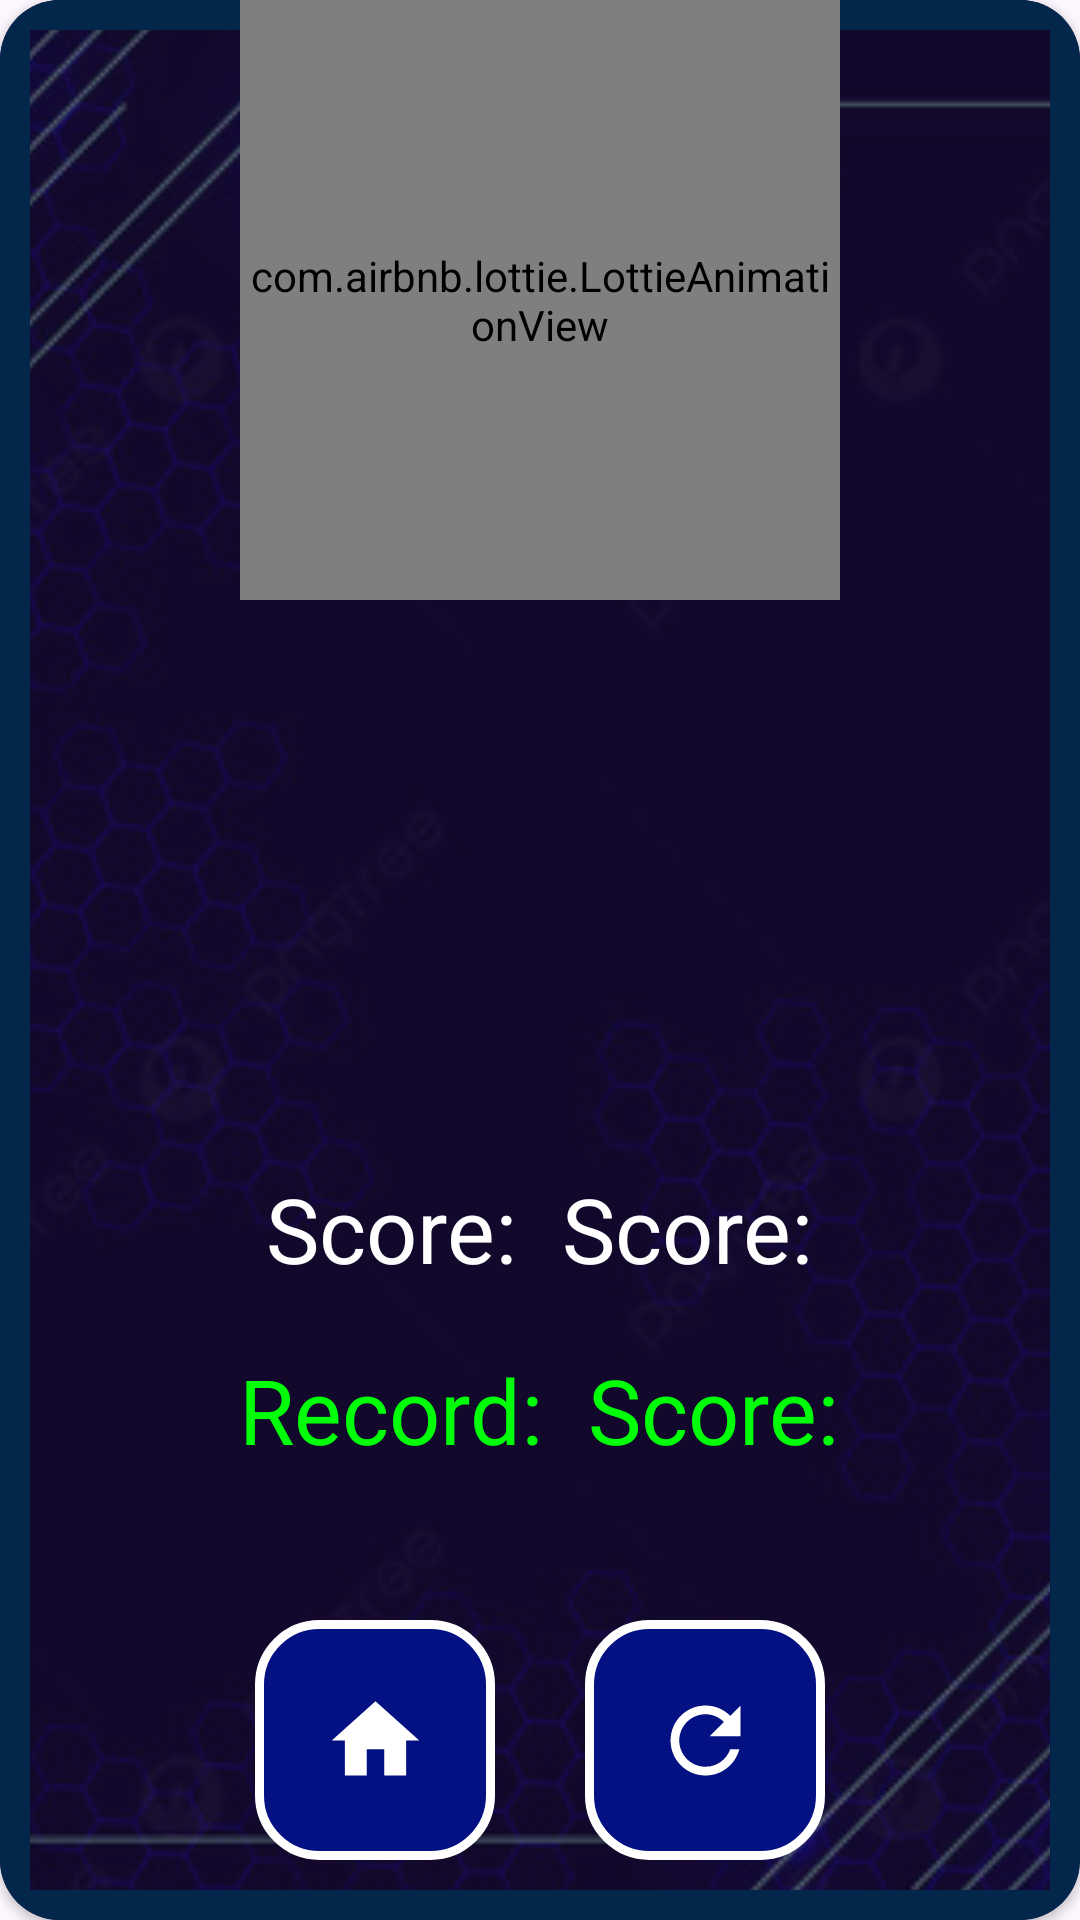

Named icons in this screenshot (1080×1920) and their bounding boxes, (x1, y1, x2, y2):
home: (255, 1620, 495, 1860)
restart: (585, 1620, 825, 1860)
